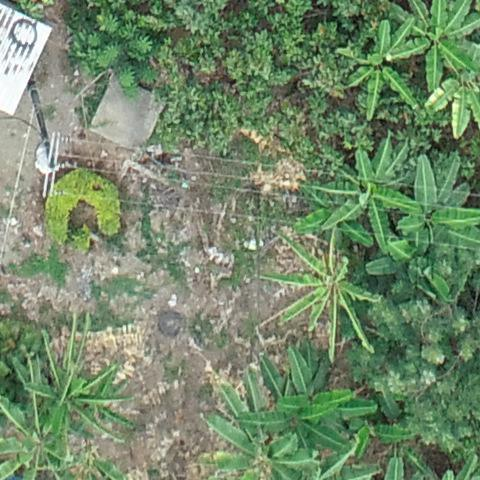Banana-plant: (256, 221, 374, 360), (299, 129, 424, 259), (191, 362, 327, 480), (24, 316, 137, 449), (229, 343, 352, 462), (271, 328, 377, 453), (365, 228, 480, 312), (334, 14, 424, 121), (381, 0, 480, 95), (386, 154, 478, 252), (0, 373, 80, 480), (420, 29, 479, 142), (290, 177, 377, 248)
